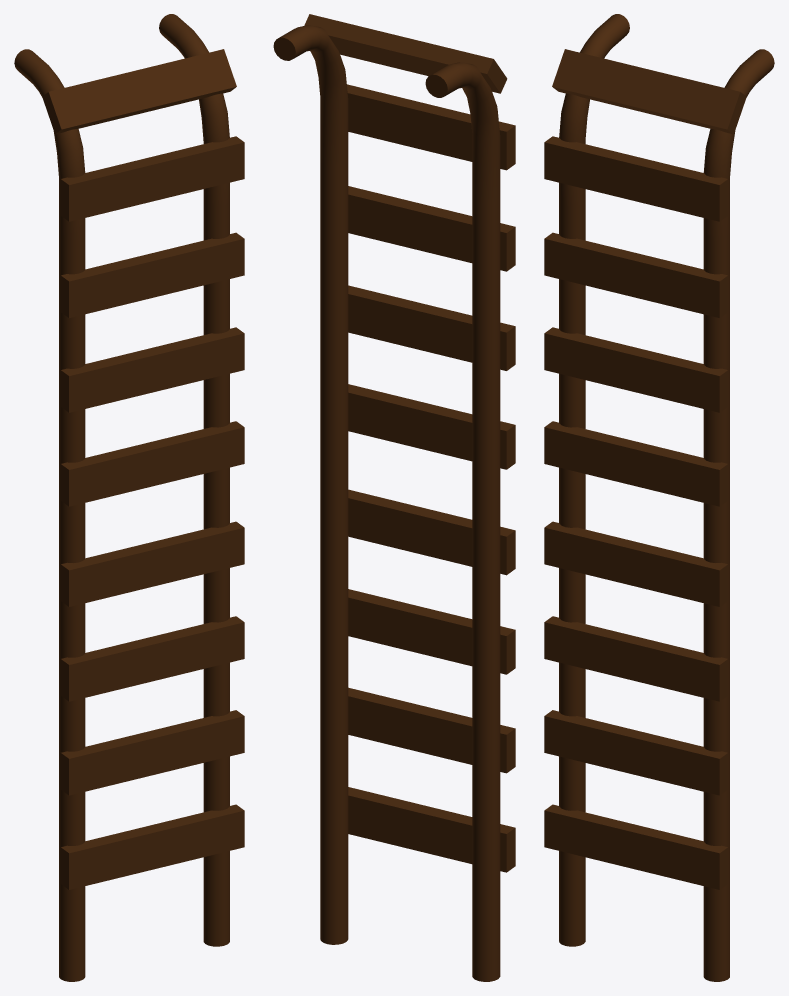
The model's file is Ladder.fbx.
The picture shows the model from 3 angles, left to right: view 1: azimuth 30°, elevation 25°; view 2: azimuth 150°, elevation 25°; view 3: azimuth 330°, elevation 25°; orthographic projection. The views are drawn at different scales.
Parts seen in each view (by area): view 1: Cylinder; view 2: Cylinder; view 3: Cylinder.
Boxes of the visible parts, x1,y1,x2,y2 form: Cylinder: [14, 14, 244, 981]; Cylinder: [273, 14, 515, 981]; Cylinder: [544, 14, 774, 981].
Bounding box in the file's own units: 72.33 × 351 × 42.77.
